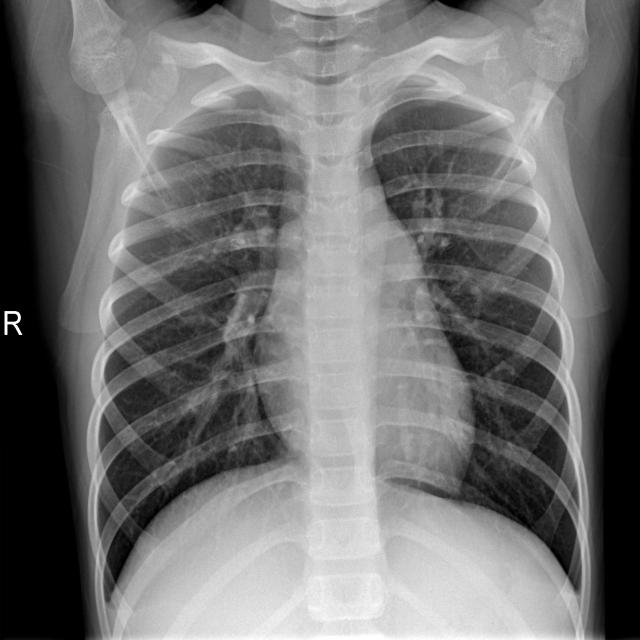no-pneumonia: (94, 93, 299, 593), (373, 99, 583, 583)
